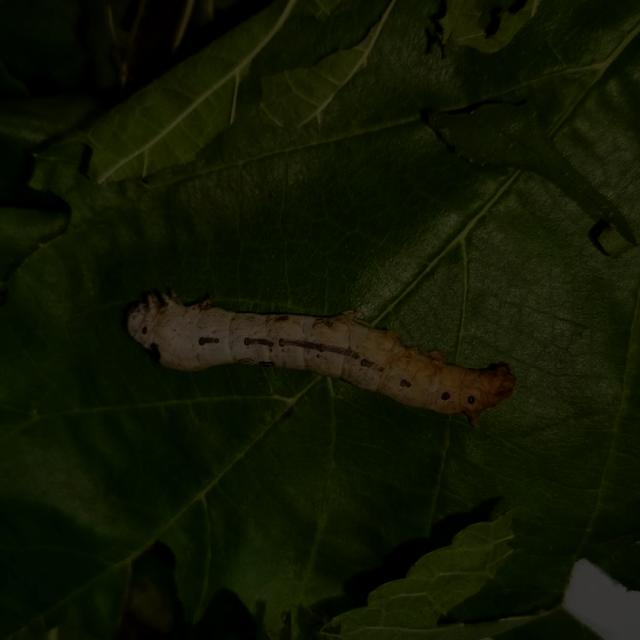Grasserie: (115, 277, 519, 440)
